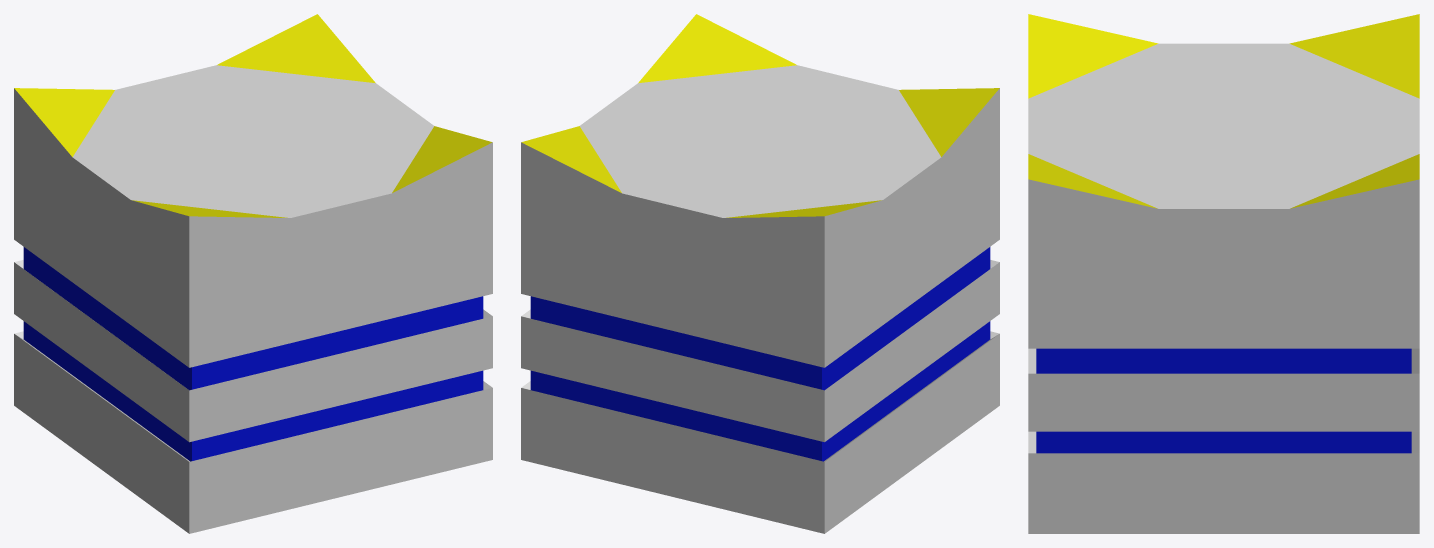
Rendered from sculptureStandMesh.fbx.
3 views of the same model, side by side, from view 1: azimuth 30°, elevation 25°; view 2: azimuth 150°, elevation 25°; view 3: azimuth 270°, elevation 25° (orthographic). The views are drawn at different scales.
Parts seen in each view (by area): view 1: Cube; view 2: Cube; view 3: Cube.
Boxes of the visible parts, x1,y1,x2,y2 form: Cube: (14,14,492,533); Cube: (521,14,999,533); Cube: (1028,14,1419,533).
Size of the model in its own units: 1 by 1 by 1.
